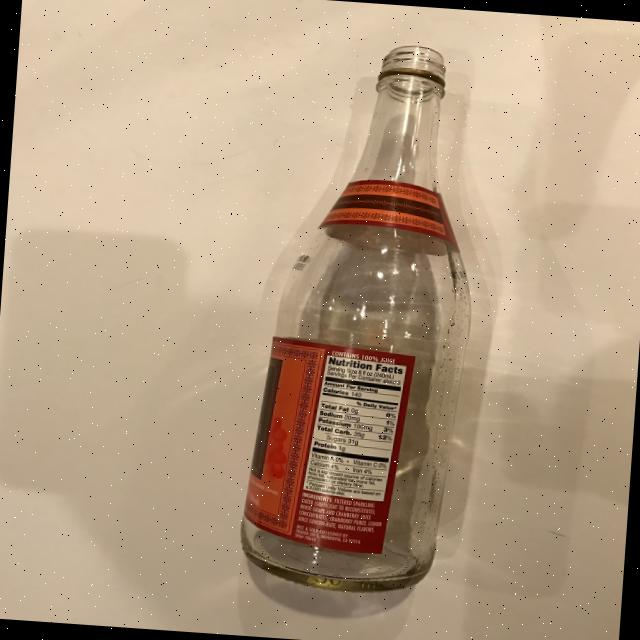glass: (235, 35, 489, 598)
